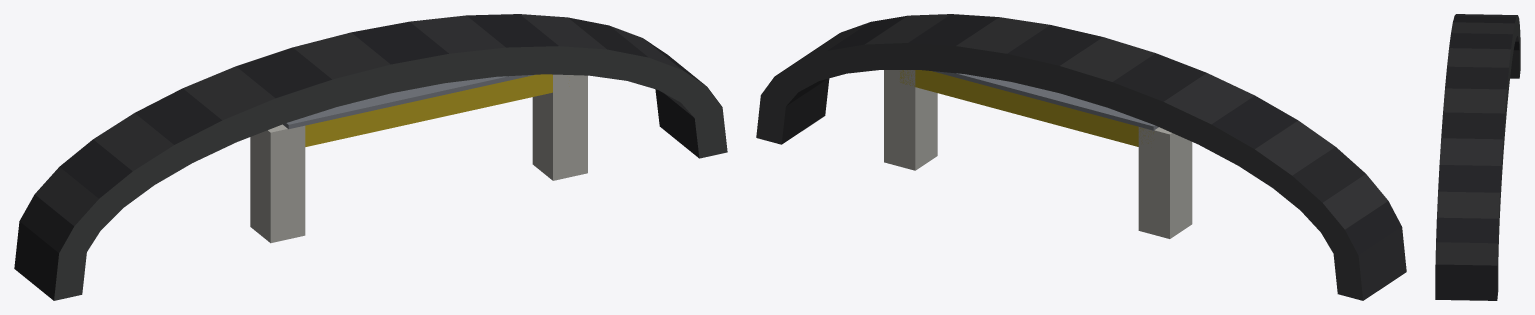
Rendered from dunlop_bridge.glb.
3 renders of one model, left to right at view 1: azimuth 30°, elevation 25°; view 2: azimuth 150°, elevation 25°; view 3: azimuth 270°, elevation 25°, orthographic. The views are drawn at different scales.
Parts seen in each view (by area): view 1: chunk_0_0; view 2: chunk_0_0; view 3: chunk_0_0.
Boxes of the visible parts, x1,y1,x2,y2 form: chunk_0_0: (14, 14, 727, 300); chunk_0_0: (756, 14, 1406, 300); chunk_0_0: (1435, 14, 1520, 300).
Size of the model in its own units: 62.24 by 14.6 by 9.63.
